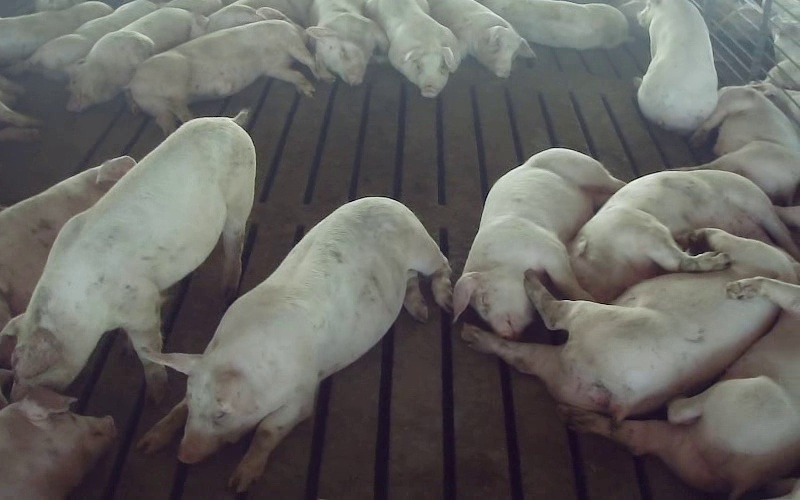pig: (139, 198, 451, 490), (4, 118, 255, 399), (463, 229, 799, 419), (454, 148, 623, 338), (568, 170, 799, 301), (0, 156, 135, 329), (67, 8, 195, 111), (691, 86, 799, 204), (0, 389, 115, 499), (637, 0, 717, 132), (25, 0, 157, 79), (365, 0, 459, 97), (428, 0, 535, 77), (480, 0, 628, 49), (306, 0, 387, 84)
